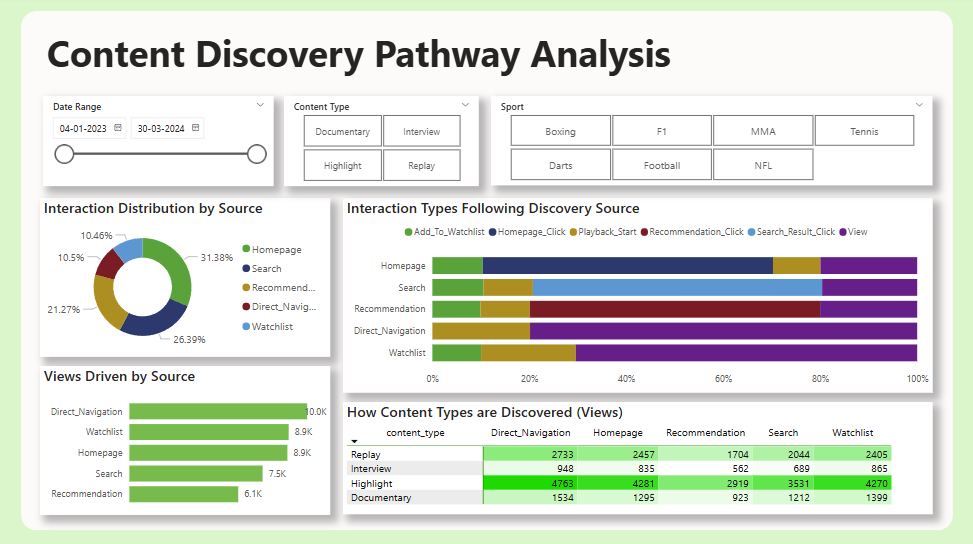

What the dashboard file says about the page in this screenshot:
{"tool":"powerbi","page":{"name":"Discovery Analysis","canvas":[1280,720],"ordinal":1},"visuals":[{"type":"shape","box":[30,20,1220,680],"z":0},{"type":"donutChart","title":"Interaction Distribution by Source","fields":{"Category":["user_interactions.source"],"Y":["user_interactions.Total Interactions"]},"box":[55,264.3,380,208.3],"z":1000},{"type":"clusteredBarChart","title":"Views Driven by Source","fields":{"Category":["user_interactions.source"],"Y":["user_interactions.Total Views"]},"box":[55,484.3,380,195],"z":2000},{"type":"hundredPercentStackedBarChart","title":"Interaction Types Following Discovery Source","fields":{"Category":["user_interactions.source"],"Series":["user_interactions.interaction_type"],"Y":["user_interactions.Total Interactions"]},"box":[451.7,264.3,771.7,255],"z":3000},{"type":"pivotTable","title":"How Content Types are Discovered (Views)","fields":{"Rows":["content_metadata.content_type"],"Columns":["user_interactions.source"],"Values":["user_interactions.Total Views"]},"box":[451.7,531,771.7,146.7],"z":4000},{"type":"slicer","fields":{"Values":["user_interactions.interaction_timestamp"]},"box":[58.3,131,301.7,118.3],"z":5000},{"type":"slicer","fields":{"Values":["content_metadata.content_type"]},"box":[375,131,255,118.3],"z":6000},{"type":"slicer","fields":{"Values":["content_metadata.sport"]},"box":[645,131,578.3,116.7],"z":7000},{"type":"textbox","box":[58.3,48.3,888.3,88.3],"z":8000}]}

Visuals, with their boxes in screenshot pixels (x1, y1, x2, y2), scaled from the page's 1280x720 canvas onto the 973x544 screenshot:
shape: [23, 15, 950, 529]
"Interaction Distribution by Source" donutChart: [42, 200, 331, 357]
"Views Driven by Source" clusteredBarChart: [42, 366, 331, 513]
"Interaction Types Following Discovery Source" hundredPercentStackedBarChart: [343, 200, 930, 392]
"How Content Types are Discovered (Views)" pivotTable: [343, 401, 930, 512]
slicer - user_interactions.interaction_timestamp: [44, 99, 274, 188]
slicer - content_metadata.content_type: [285, 99, 479, 188]
slicer - content_metadata.sport: [490, 99, 930, 187]
textbox: [44, 36, 720, 103]
